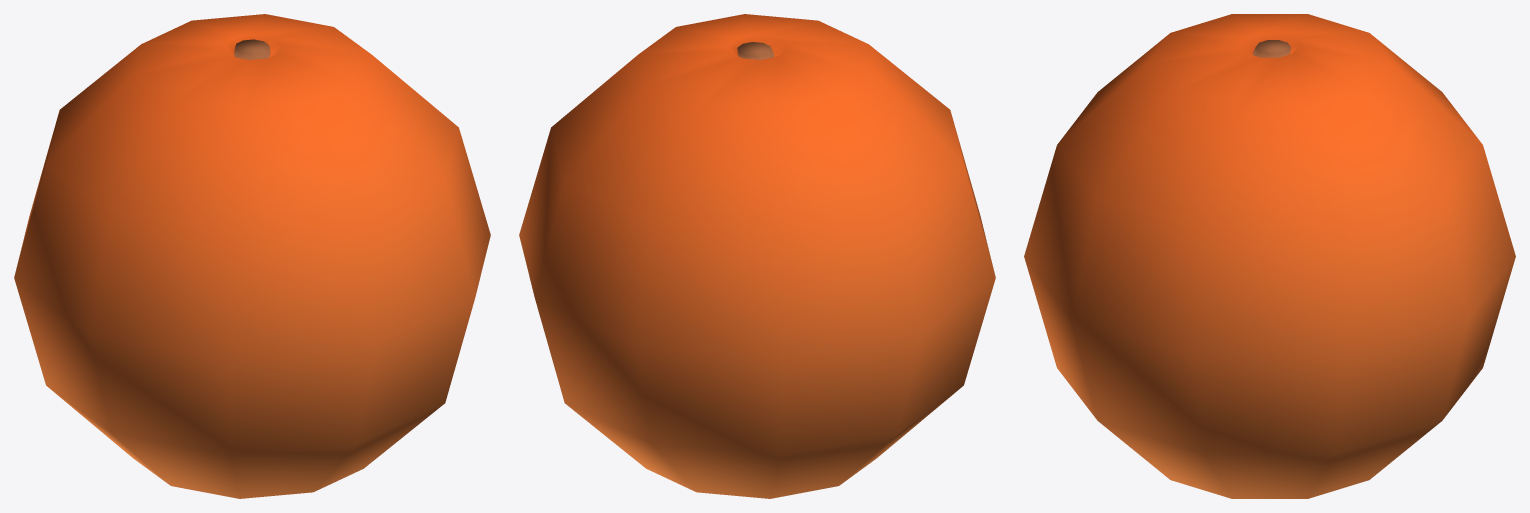
Rendered from Grapefruit.fbx.
3 renders of one model, left to right at view 1: azimuth 30°, elevation 25°; view 2: azimuth 150°, elevation 25°; view 3: azimuth 270°, elevation 25°, orthographic.
Visible parts, largest first — view 1: Grapefruit; view 2: Grapefruit; view 3: Grapefruit.
Boxes of the visible parts, x1,y1,x2,y2 form: Grapefruit: (14,14,490,498); Grapefruit: (519,14,995,498); Grapefruit: (1024,14,1515,498).
Size of the model in its own units: 11.49 by 11.76 by 12.08.
